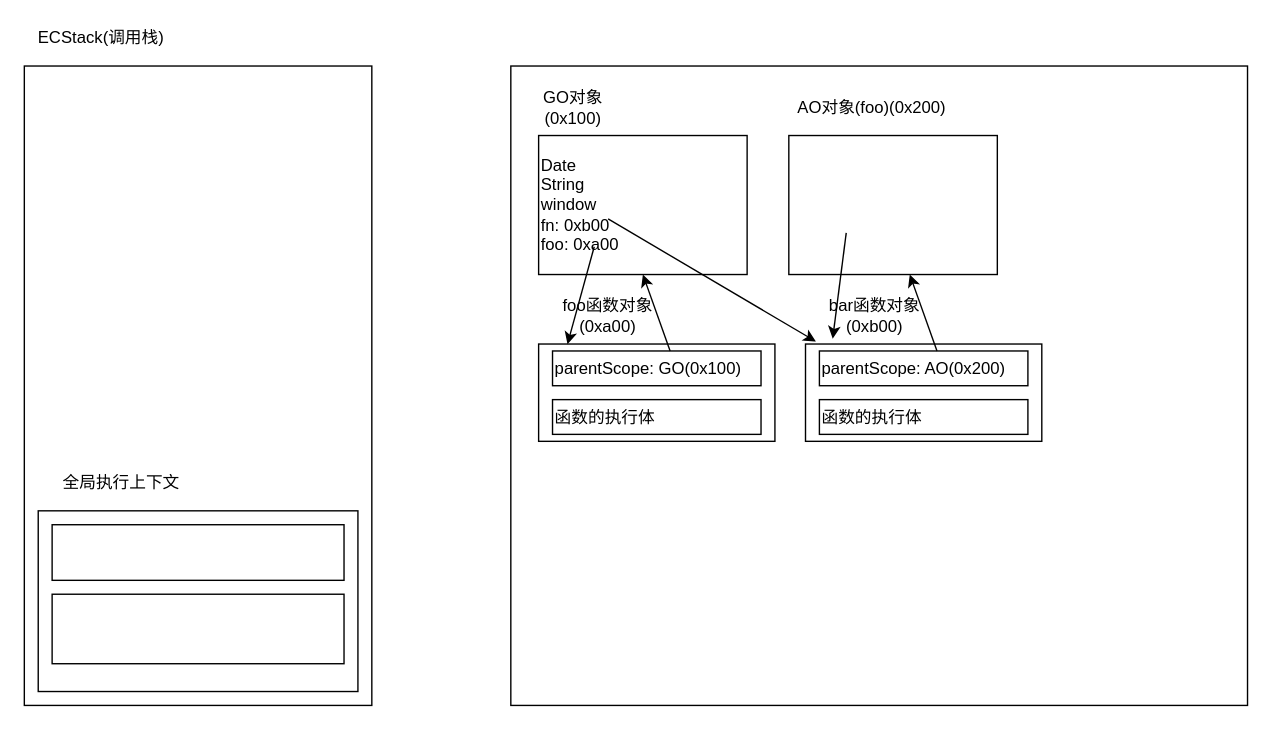
This 1272x730 diagram has some shape labels left out. Here are the shapes that lost their labels. From the top down, the centre of each, then its label:
the point at 892,204: name: "foo" age: 18 bar: 0xb00
the point at 197,551: VO: GO
the point at 197,628: var fn = 0xb00
